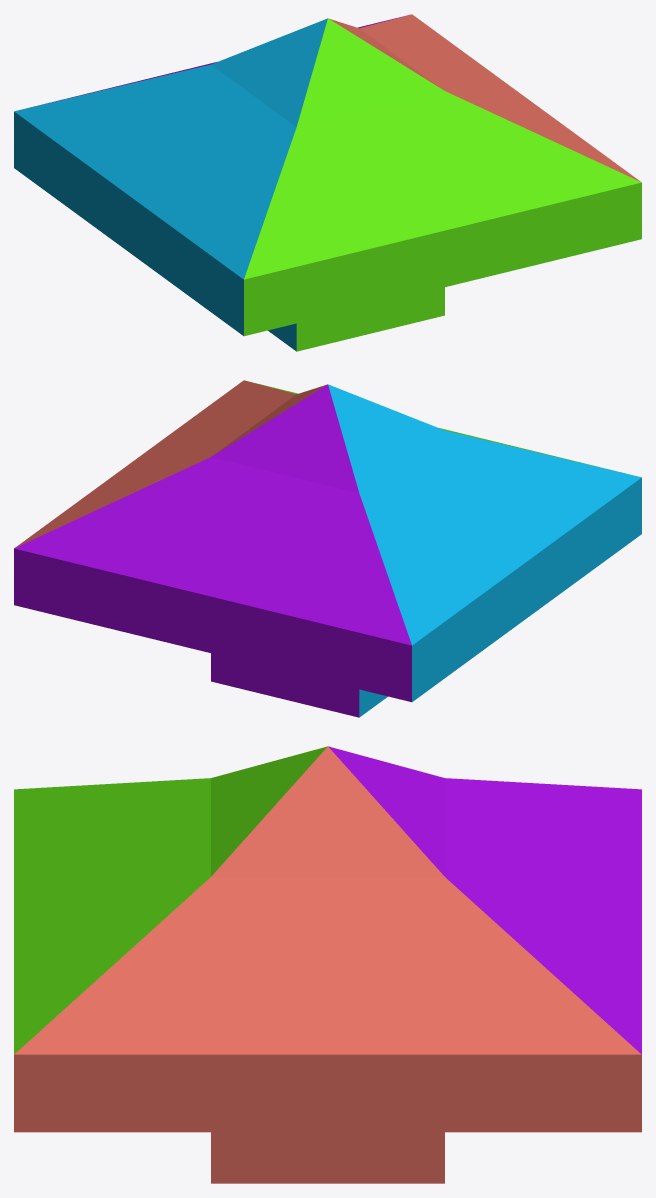
3 renders of one model, top to bottom at view 1: azimuth 30°, elevation 25°; view 2: azimuth 150°, elevation 25°; view 3: azimuth 270°, elevation 25°, orthographic. The views are drawn at different scales.
Visible parts, largest first — view 1: Cube; view 2: Cube; view 3: Cube.
Part boxes in pixels (left/top/right/bottom): Cube: left=14, top=14, right=641, bottom=351; Cube: left=14, top=380, right=641, bottom=717; Cube: left=14, top=746, right=641, bottom=1183.
Size of the model in its own units: 5.37 by 3.66 by 5.37.
